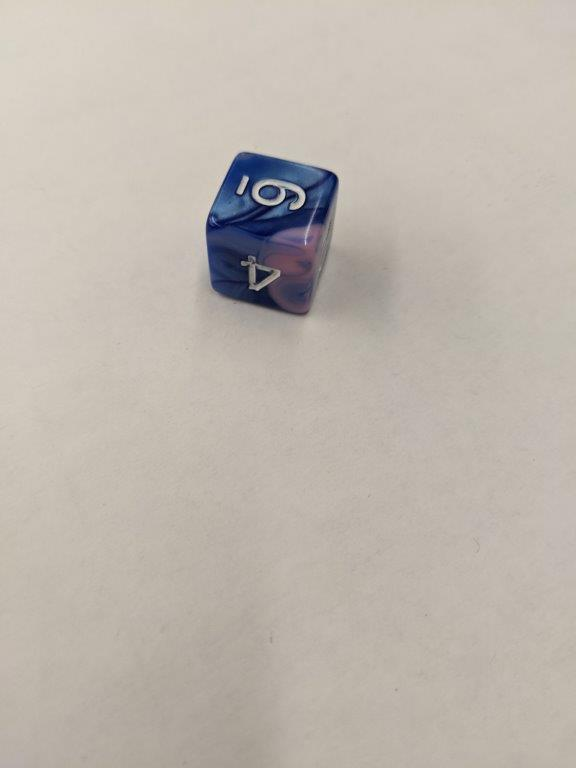d6-6: (204, 147, 338, 318)
